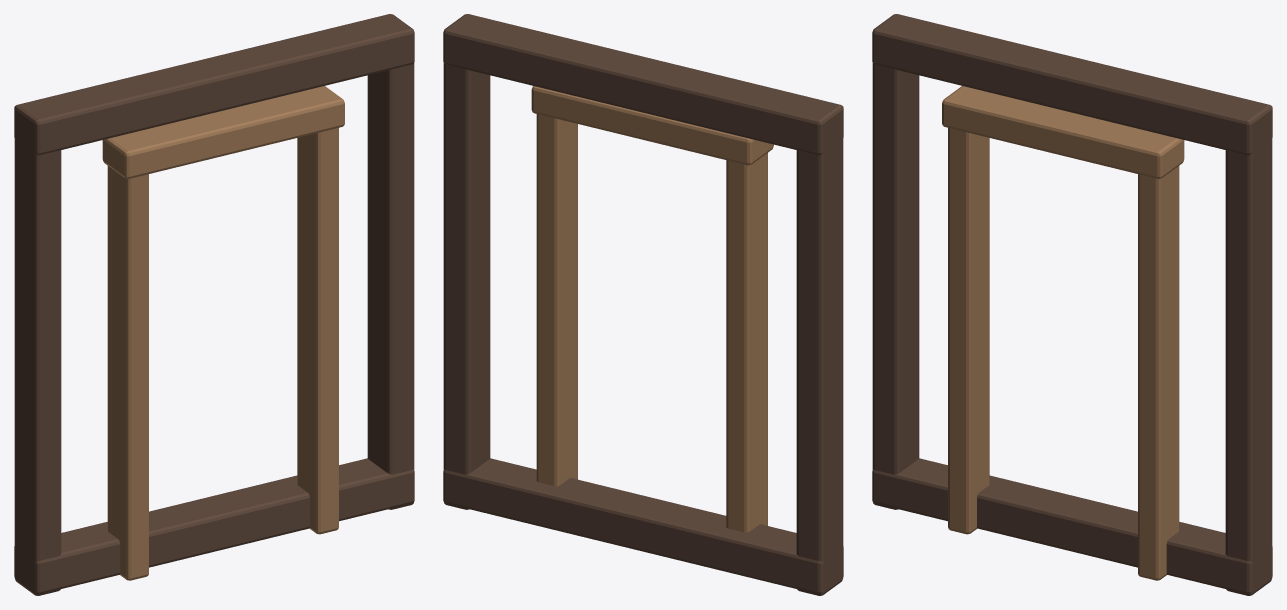
File: wall_passage_2m__structure.glb
3 renders of one model, left to right at view 1: azimuth 30°, elevation 25°; view 2: azimuth 150°, elevation 25°; view 3: azimuth 330°, elevation 25°, orthographic.
Visible parts, largest first — view 1: wall_passage_2m__structure__mesh_00; view 2: wall_passage_2m__structure__mesh_00; view 3: wall_passage_2m__structure__mesh_00.
Boxes of the visible parts, <box> form: wall_passage_2m__structure__mesh_00: <box>14,14,414,595</box>; wall_passage_2m__structure__mesh_00: <box>443,14,843,595</box>; wall_passage_2m__structure__mesh_00: <box>872,14,1272,595</box>.
Bounding box in the file's own units: 2 × 2.4 × 0.31.
